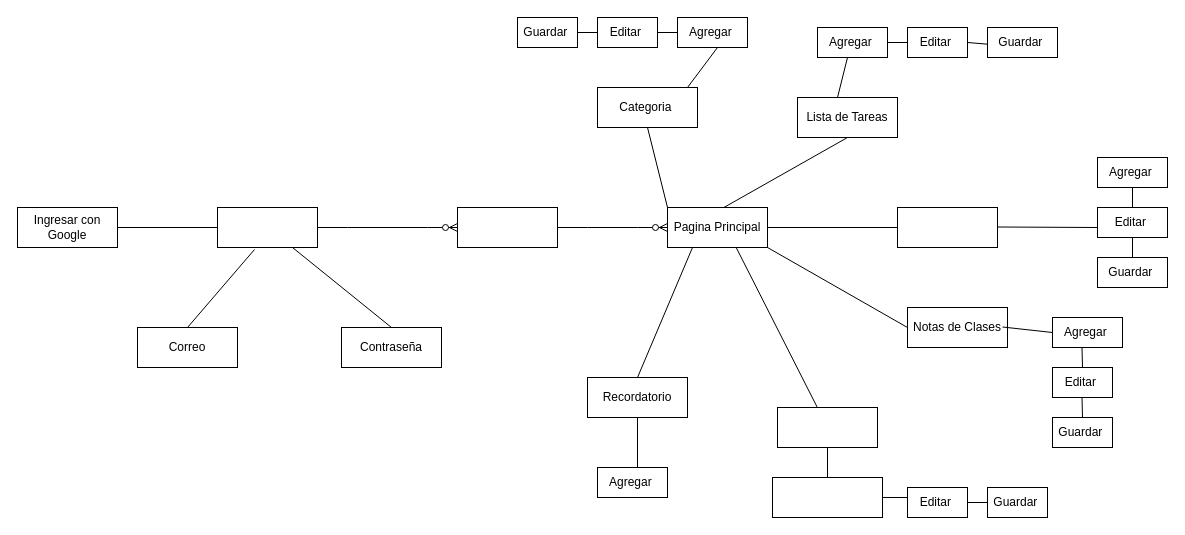
Some shapes in this 1185 by 535 pixel diagram are drawn without their labels. Each missing label, with the box of its shape:
Agregar notas: (772, 476, 882, 518)
Ingresar: (456, 206, 558, 248)
Lista de Compra: (896, 206, 998, 248)
Login: (216, 206, 318, 248)
Notas Importantes: (776, 406, 878, 448)
